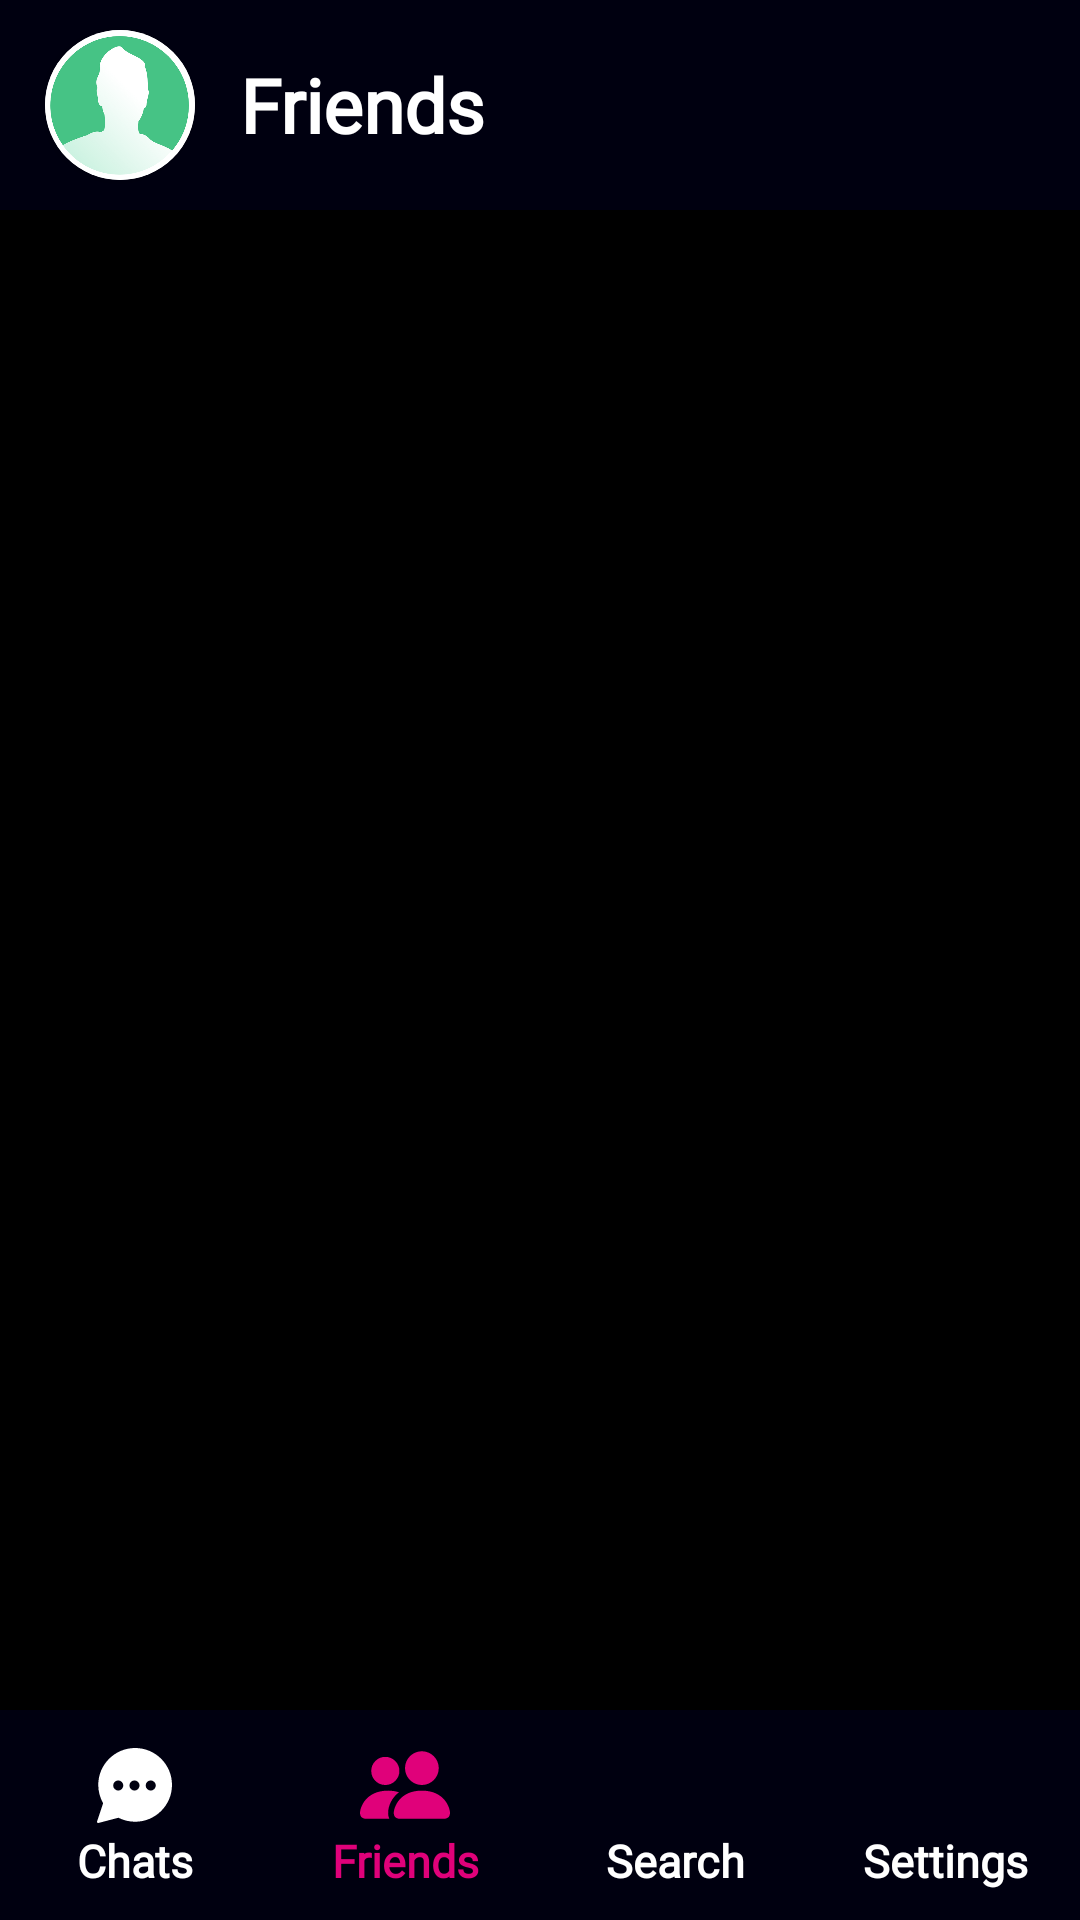

Named icons in this screenshot (1080px x 1920px) and their centers, (x,y):
people multi: (405,1785)
